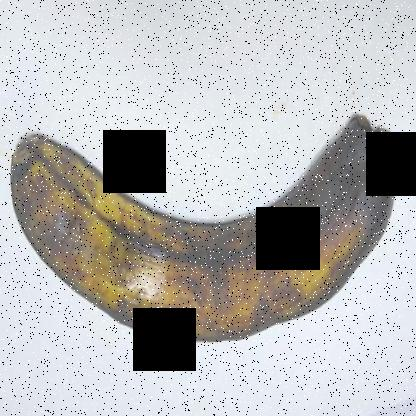overripe: (1, 64, 409, 348)
